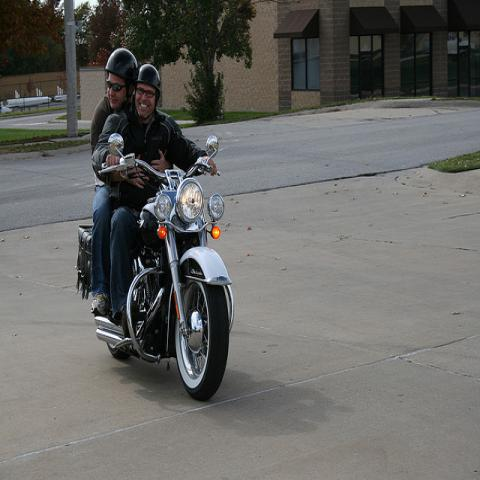motorcycle: (80, 132, 236, 400)
